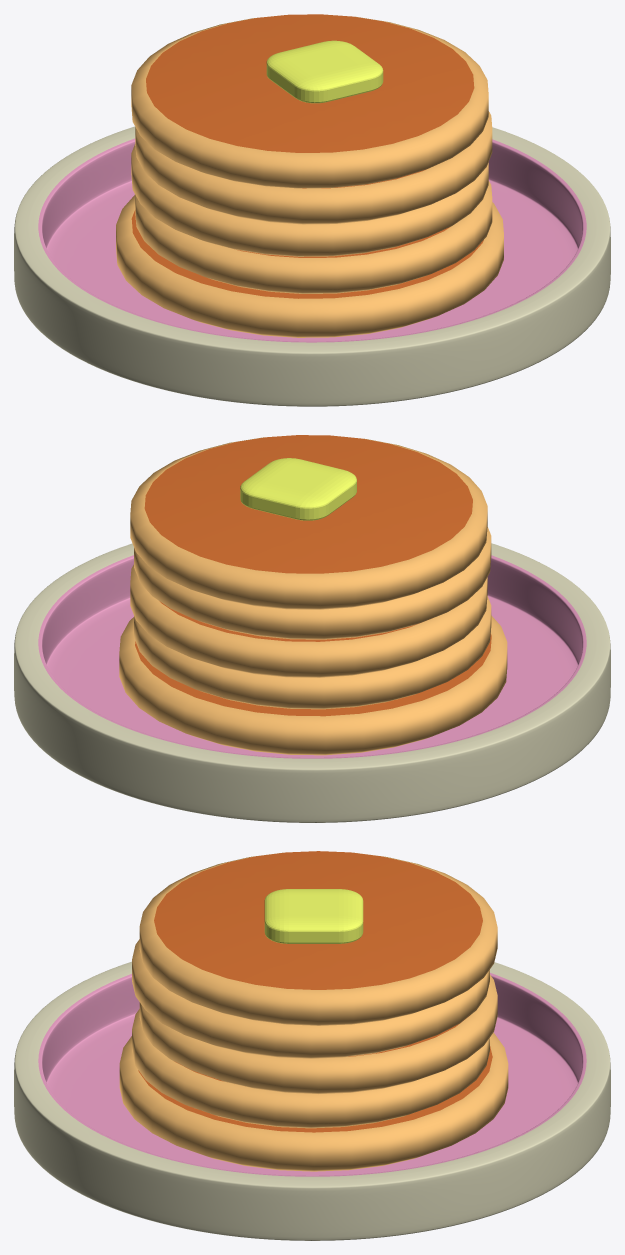
File: wafle.fbx
The picture shows the model from 3 angles, top to bottom: view 1: azimuth 30°, elevation 25°; view 2: azimuth 150°, elevation 25°; view 3: azimuth 270°, elevation 25°; orthographic projection.
Parts seen in each view (by area): view 1: Cilindro.001, Cilindro.009, Cilindro.005, Cilindro.006, Cilindro.008, Cilindro.007, Cubo; view 2: Cilindro.001, Cilindro.009, Cilindro.005, Cilindro.007, Cilindro.006, Cilindro.008, Cubo; view 3: Cilindro.001, Cilindro.009, Cilindro.005, Cilindro.007, Cilindro.006, Cilindro.008, Cubo.
Part boxes in pixels (<box>): Cilindro.001: <box>14,126,610,406</box>; Cilindro.009: <box>131,14,488,188</box>; Cilindro.005: <box>116,194,503,337</box>; Cilindro.006: <box>135,181,492,293</box>; Cilindro.008: <box>135,111,492,224</box>; Cilindro.007: <box>131,144,488,256</box>; Cubo: <box>266,40,383,103</box>; Cilindro.001: <box>14,543,610,822</box>; Cilindro.009: <box>130,435,487,609</box>; Cilindro.005: <box>119,615,507,755</box>; Cilindro.007: <box>130,564,487,677</box>; Cilindro.006: <box>134,596,491,709</box>; Cilindro.008: <box>134,527,491,639</box>; Cubo: <box>240,458,356,520</box>; Cilindro.001: <box>14,961,610,1240</box>; Cilindro.009: <box>139,851,497,1025</box>; Cilindro.005: <box>119,1032,508,1171</box>; Cilindro.007: <box>139,975,497,1094</box>; Cilindro.006: <box>132,1009,489,1128</box>; Cilindro.008: <box>132,939,489,1058</box>; Cubo: <box>264,889,363,943</box>.
Bounding box in the file's own units: 88.25 × 35.36 × 88.25.
